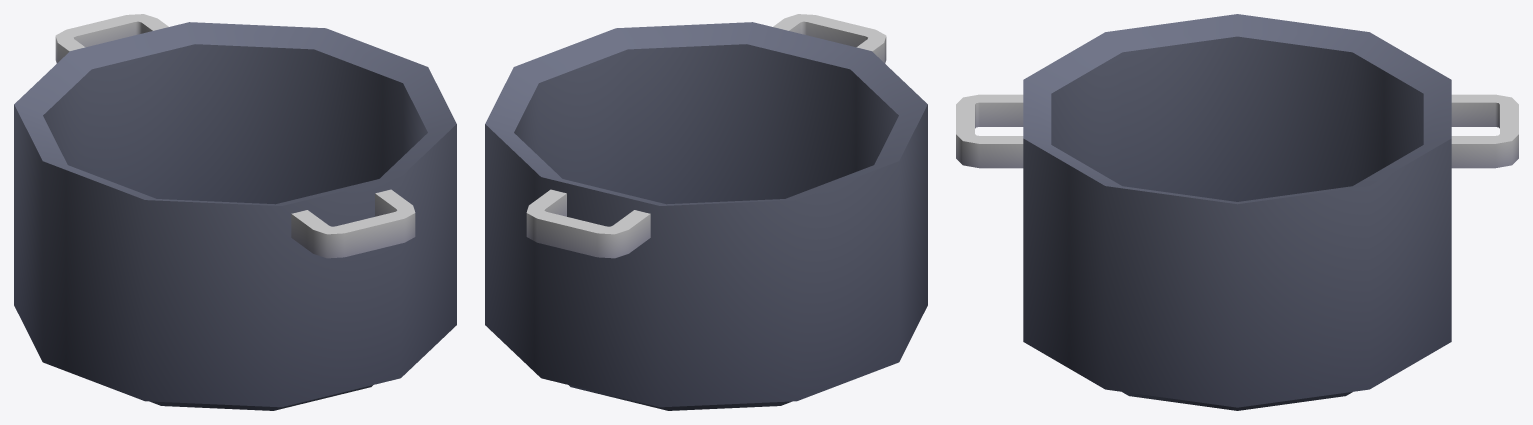
File: pot.glb
3 renders of one model, left to right at view 1: azimuth 30°, elevation 25°; view 2: azimuth 150°, elevation 25°; view 3: azimuth 270°, elevation 25°, orthographic.
Visible parts, largest first — view 1: m; view 2: m; view 3: m.
Boxes of the visible parts, bbox=[...] form: m: bbox=[14, 14, 456, 410]; m: bbox=[485, 14, 927, 410]; m: bbox=[956, 14, 1518, 410].
Bounding box in the file's own units: 0.1822 × 0.1 × 0.2278.
